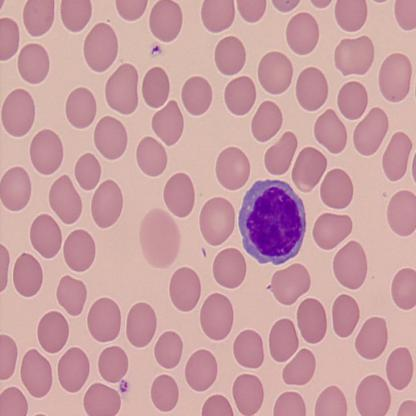NRC: (237, 177, 308, 267)
